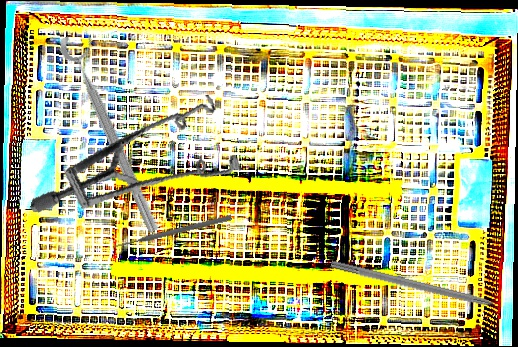Fixation Ring: (56, 27, 175, 236)
Hook Surgical: (329, 259, 516, 316)
Pusher: (111, 213, 233, 251)
Speculum: (29, 64, 255, 252)
